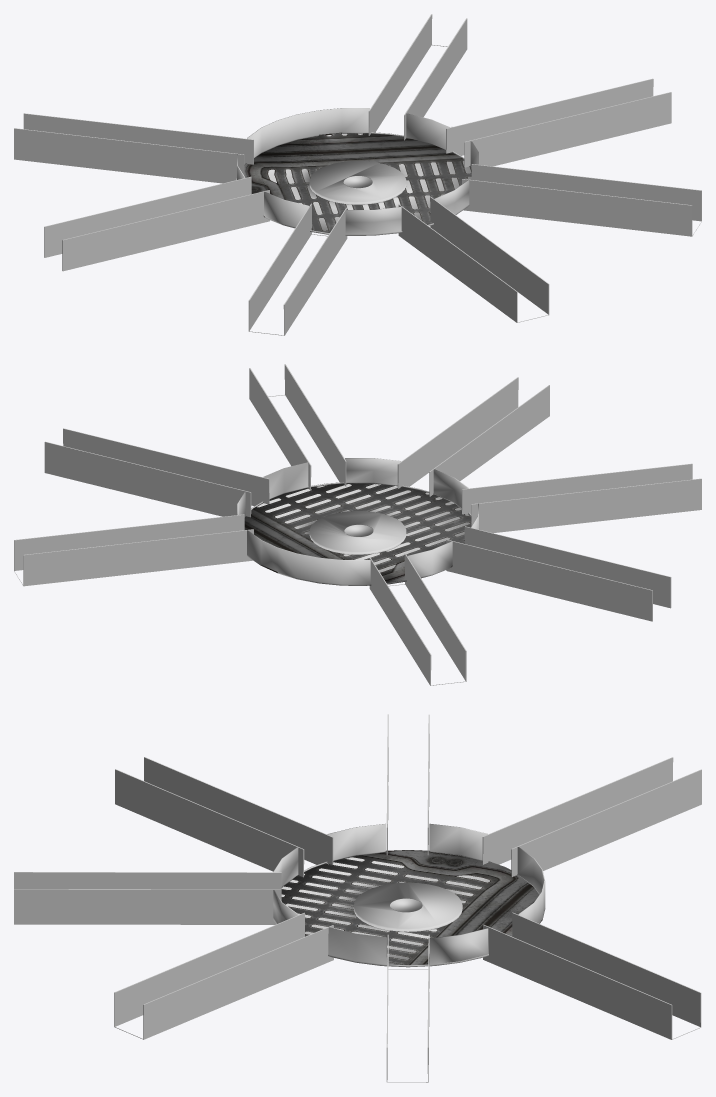
File: Camera Finala.fbx
The picture shows the model from 3 angles, top to bottom: view 1: azimuth 30°, elevation 25°; view 2: azimuth 150°, elevation 25°; view 3: azimuth 270°, elevation 25°; orthographic projection. The views are drawn at different scales.
Parts seen in each view (by area): view 1: Circle.002; view 2: Circle.002; view 3: Circle.002.
Boxes of the visible parts, box(x1,y1,x2,y2) form: Circle.002: box(14, 14, 701, 335); Circle.002: box(14, 364, 701, 685); Circle.002: box(14, 714, 701, 1082).
Size of the model in its own units: 76990 by 3794 by 67187.
